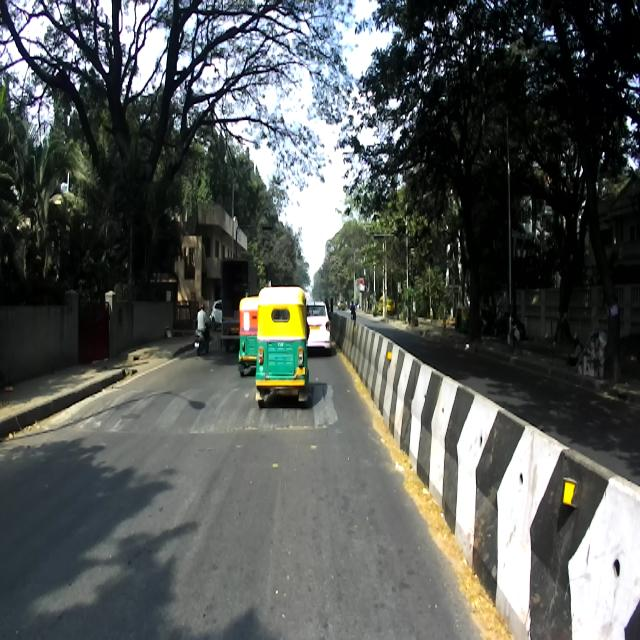auto ahead at: (258, 283, 310, 407), (240, 298, 256, 372)
